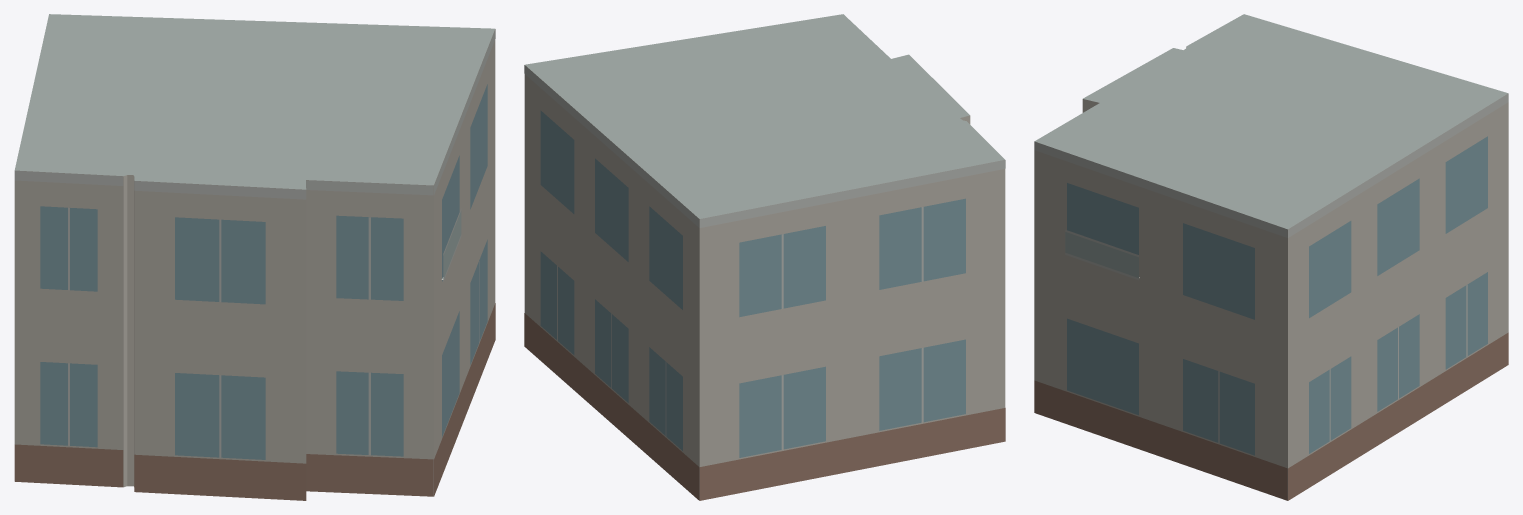
Rendered from survey-upis-33015538.glb.
3 renders of one model, left to right at view 1: azimuth 30°, elevation 25°; view 2: azimuth 150°, elevation 25°; view 3: azimuth 270°, elevation 25°, orthographic. The views are drawn at different scales.
Visible parts, largest first — view 1: survey-upis-33015538.tmp; view 2: survey-upis-33015538.tmp; view 3: survey-upis-33015538.tmp.
Part boxes in pixels (x1,y1,x2,y2): survey-upis-33015538.tmp: [14, 14, 495, 500]; survey-upis-33015538.tmp: [524, 14, 1005, 500]; survey-upis-33015538.tmp: [1034, 14, 1508, 500].
Size of the model in its own units: 12.94 by 7.6 by 12.04.
